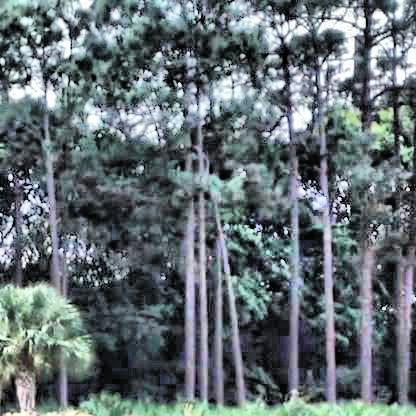golfball: (315, 194, 324, 203)
